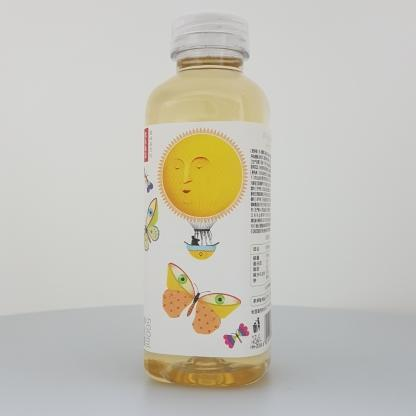------------: (143, 11, 272, 387)
